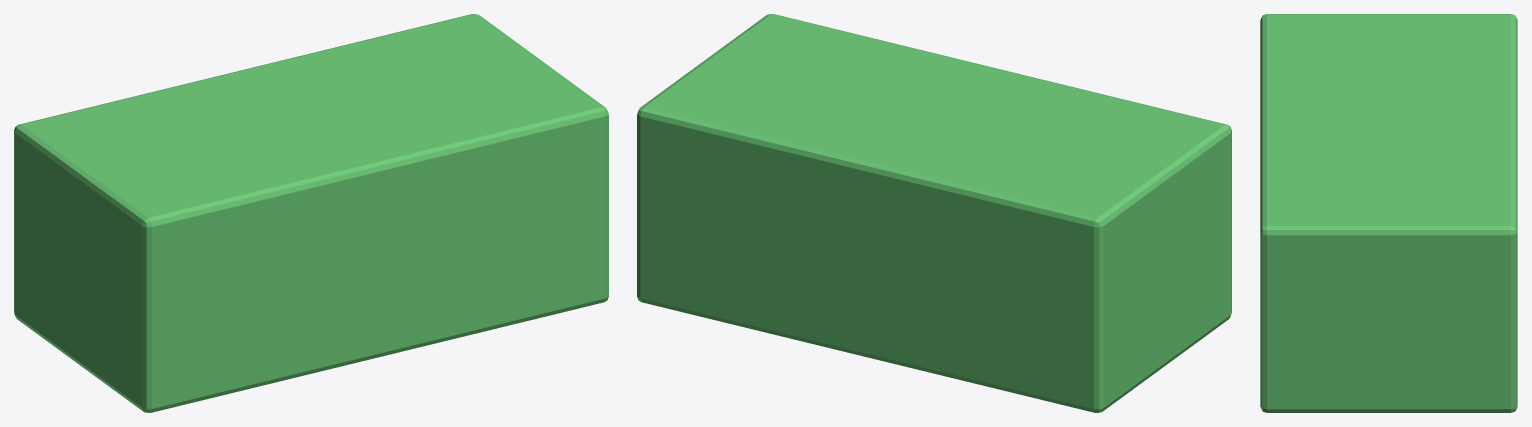
File: solid_cuboid.glb
3 views of the same model, side by side, from view 1: azimuth 30°, elevation 25°; view 2: azimuth 150°, elevation 25°; view 3: azimuth 270°, elevation 25° (orthographic). The views are drawn at different scales.
Visible parts, largest first — view 1: solid_cuboid; view 2: solid_cuboid; view 3: solid_cuboid.
Boxes of the visible parts, box(x1,y1,x2,y2) form: solid_cuboid: box(14, 14, 608, 412); solid_cuboid: box(637, 14, 1231, 412); solid_cuboid: box(1260, 14, 1517, 412).
Size of the model in its own units: 0.3 by 0.12 by 0.15.
